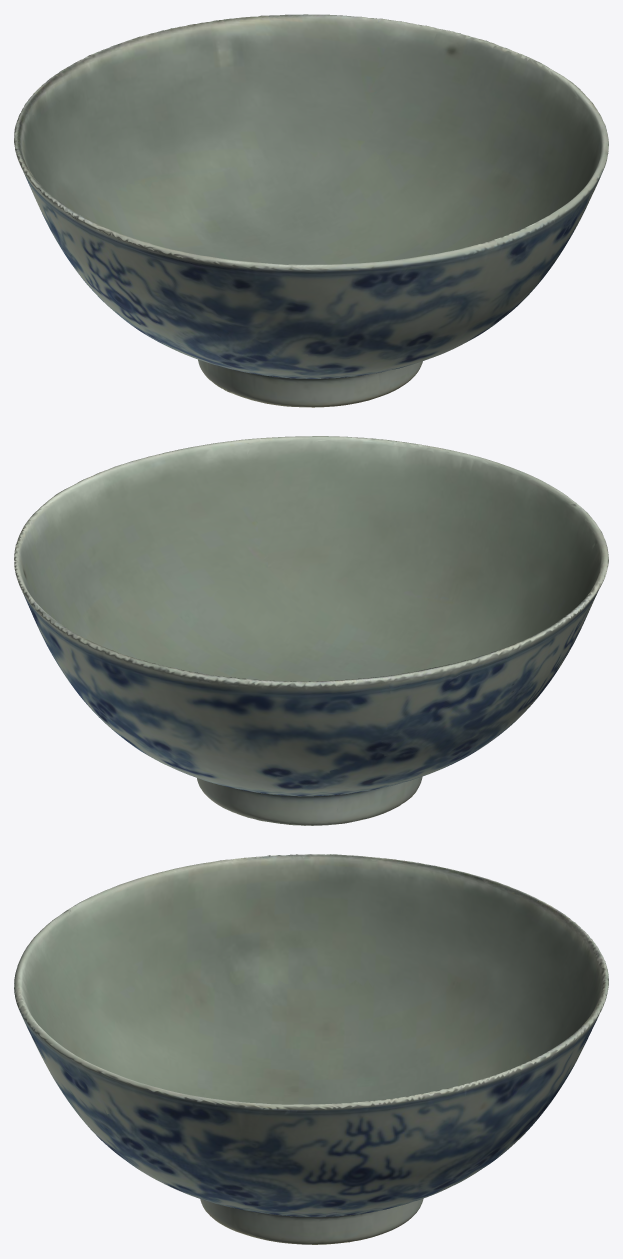
Rendered from to-su-ky-kieu.glb.
The picture shows the model from 3 angles, top to bottom: view 1: azimuth 30°, elevation 25°; view 2: azimuth 150°, elevation 25°; view 3: azimuth 270°, elevation 25°; orthographic projection.
Parts seen in each view (by area): view 1: Polygonal_Model_1 76; view 2: Polygonal_Model_1 76; view 3: Polygonal_Model_1 76.
Part boxes in pixels (bbox=[...]): Polygonal_Model_1 76: bbox=[14, 14, 608, 407]; Polygonal_Model_1 76: bbox=[14, 436, 608, 825]; Polygonal_Model_1 76: bbox=[14, 854, 608, 1244].
Bounding box in the file's own units: 0.1973 × 0.0819 × 0.1988.
Materials: 1 (1 with a texture image).
